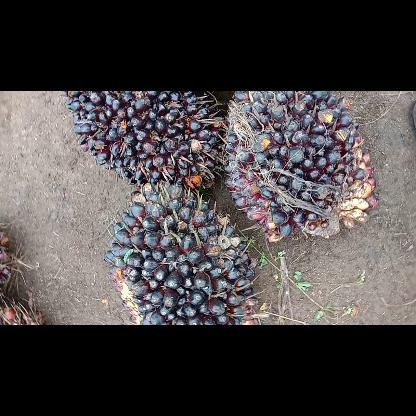TBS mentah: (224, 91, 380, 247), (100, 176, 262, 324), (57, 91, 232, 191)
